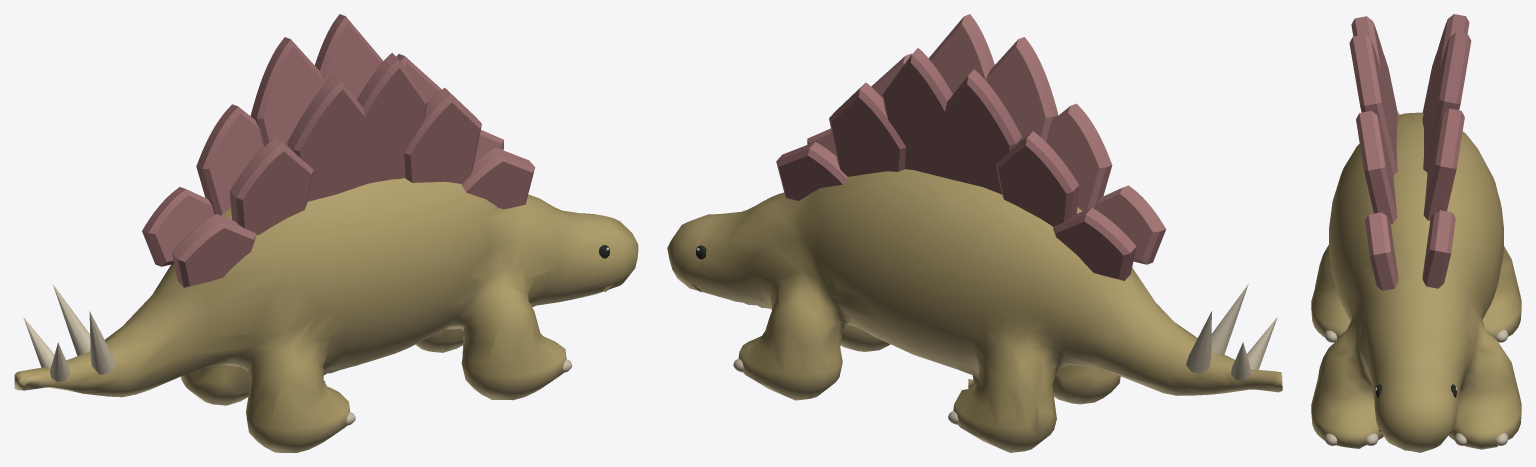
The model's file is stegosaurus.glb.
The picture shows the model from 3 angles, left to right: view 1: azimuth 30°, elevation 25°; view 2: azimuth 150°, elevation 25°; view 3: azimuth 270°, elevation 25°; orthographic projection. The views are drawn at different scales.
Visible parts, largest first — view 1: clay-toy; view 2: clay-toy; view 3: clay-toy.
Part boxes in pixels (x1,y1,x2,y2): clay-toy: (14,14,638,452); clay-toy: (667,14,1282,452); clay-toy: (1311,14,1521,452).
Size of the model in its own units: 3.65 by 2.08 by 1.1.
